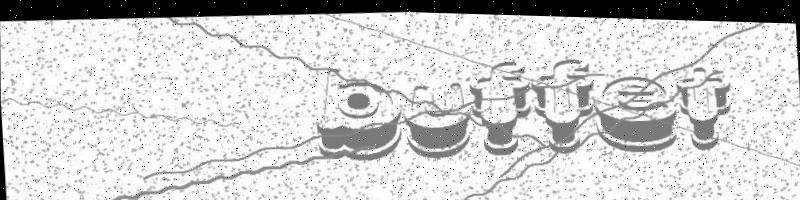b: (309, 57, 404, 164)
e: (595, 61, 679, 151)
f: (466, 55, 540, 154), (533, 48, 602, 154)
t: (673, 61, 738, 147)
u: (402, 69, 471, 157)
